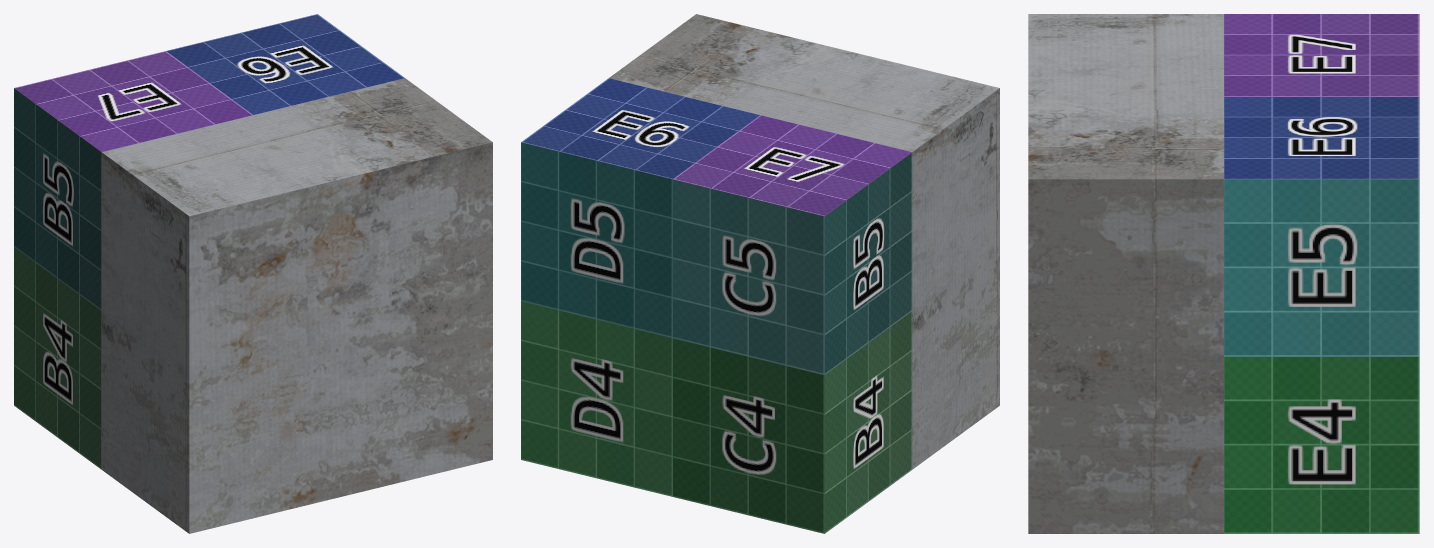
The picture shows the model from 3 angles, left to right: view 1: azimuth 30°, elevation 25°; view 2: azimuth 150°, elevation 25°; view 3: azimuth 270°, elevation 25°; orthographic projection. The views are drawn at different scales.
Visible parts, largest first — view 1: Metal; view 2: Metal; view 3: Metal.
Boxes of the visible parts, x1,y1,x2,y2 form: Metal: [14, 14, 492, 533]; Metal: [521, 14, 999, 533]; Metal: [1028, 14, 1419, 533].
Size of the model in its own units: 2 by 2 by 2.
2 materials, 2 textured.
